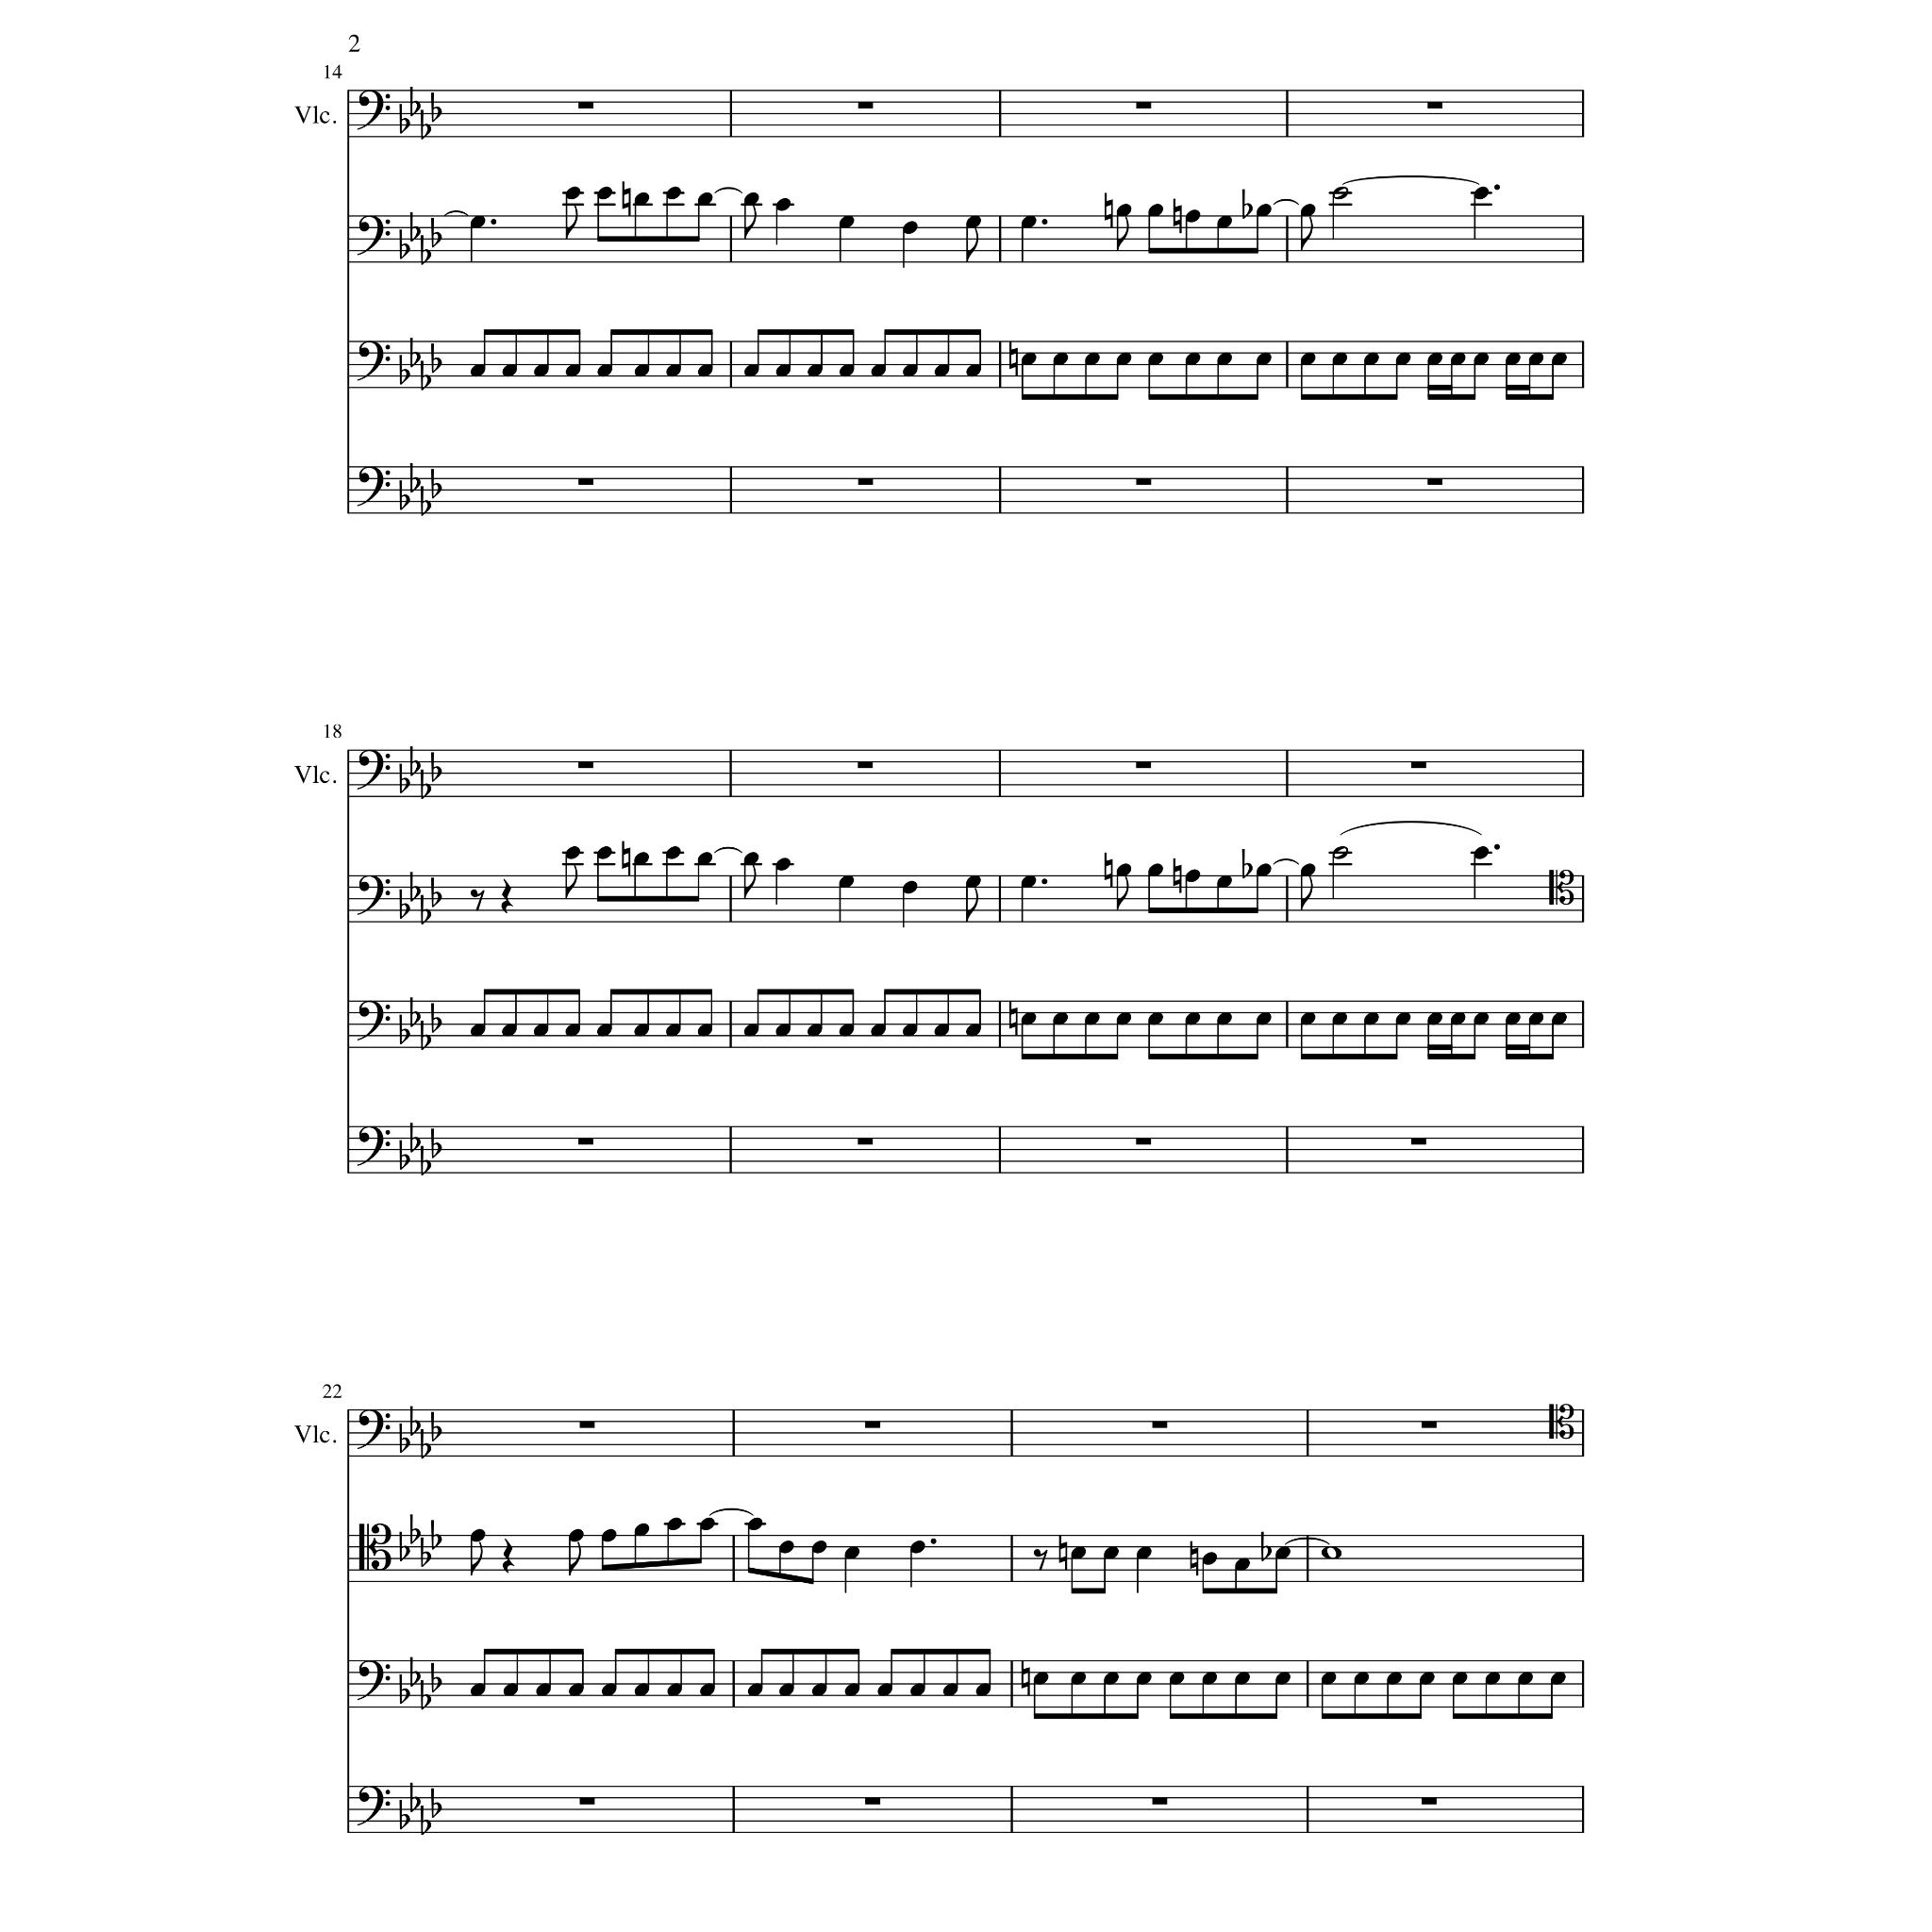fClef: (357, 341, 391, 382), (357, 216, 391, 257), (357, 90, 391, 131), (357, 467, 391, 508), (357, 1125, 391, 1166), (357, 1000, 391, 1040), (357, 750, 391, 791), (357, 1660, 391, 1700), (357, 1408, 391, 1449), (357, 1785, 391, 1826), (357, 876, 391, 915)
flag8thDown: (1300, 876, 1313, 911), (1116, 876, 1129, 911), (966, 886, 978, 922), (1300, 218, 1313, 251), (1116, 218, 1129, 251), (566, 205, 579, 239), (966, 228, 978, 262), (743, 205, 755, 239), (566, 865, 579, 899), (743, 865, 755, 899), (570, 1541, 582, 1575), (471, 1541, 483, 1575)
noteheadBlack: (1184, 352, 1201, 366), (1299, 352, 1316, 366), (1299, 203, 1316, 218), (1426, 352, 1444, 366), (1184, 1012, 1201, 1026), (1299, 1012, 1316, 1026), (1426, 1012, 1444, 1026), (1217, 352, 1233, 366), (1256, 203, 1272, 218), (1256, 352, 1272, 366), (1053, 352, 1069, 366), (1148, 352, 1164, 366), (1148, 203, 1164, 218), (1116, 352, 1132, 366), (1116, 203, 1132, 218), (1085, 352, 1100, 366), (1552, 352, 1568, 366), (1529, 352, 1545, 366), (1504, 352, 1520, 366), (1332, 352, 1348, 366), (1364, 352, 1380, 366), (1474, 352, 1490, 366), (1451, 352, 1467, 366), (1394, 352, 1410, 366), (596, 364, 612, 379), (633, 364, 649, 379), (633, 193, 649, 207), (564, 364, 580, 379), (697, 364, 713, 379), (697, 193, 713, 207), (665, 364, 681, 379), (533, 364, 548, 379), (501, 364, 517, 379), (469, 364, 485, 379), (902, 364, 918, 379), (902, 221, 918, 235), (870, 364, 886, 379), (807, 364, 823, 379), (1021, 352, 1037, 366), (839, 364, 855, 379), (966, 364, 982, 379), (934, 364, 950, 379), (743, 364, 759, 379), (743, 193, 759, 207), (775, 364, 791, 379), (1217, 1012, 1233, 1026), (1256, 1012, 1272, 1026), (1053, 1012, 1069, 1026), (1085, 1012, 1100, 1026), (1148, 1012, 1164, 1026), (1116, 1012, 1132, 1026), (1552, 1012, 1568, 1026), (1529, 1012, 1545, 1026), (1504, 1012, 1520, 1026), (1364, 1012, 1380, 1026), (1332, 1012, 1348, 1026), (1451, 1012, 1467, 1026), (1474, 1012, 1490, 1026), (1474, 846, 1490, 860), (1394, 1012, 1410, 1026), (596, 846, 612, 860), (633, 851, 649, 865), (564, 846, 580, 860), (697, 851, 713, 865), (665, 846, 681, 860), (1021, 1012, 1037, 1026), (743, 851, 759, 865), (1201, 1552, 1217, 1566), (1235, 1557, 1251, 1571), (600, 1683, 616, 1697), (600, 1529, 616, 1543), (568, 1683, 584, 1697), (568, 1529, 584, 1543), (536, 1683, 552, 1697), (699, 1683, 715, 1697), (667, 1683, 683, 1697), (633, 1683, 649, 1697), (633, 1523, 649, 1537), (502, 1683, 518, 1697), (469, 1683, 485, 1697), (469, 1529, 485, 1543), (878, 1683, 893, 1697), (844, 1683, 860, 1697), (810, 1683, 826, 1697), (975, 1683, 991, 1697), (941, 1683, 957, 1697), (909, 1683, 925, 1697), (747, 1683, 763, 1697), (778, 1683, 794, 1697), (1184, 211, 1201, 223), (1184, 870, 1201, 883), (1299, 863, 1316, 876), (902, 881, 916, 895), (1217, 216, 1233, 228), (1474, 188, 1490, 200), (596, 188, 612, 200), (564, 188, 580, 200), (665, 188, 681, 200), (469, 216, 485, 228), (839, 216, 855, 228), (1021, 216, 1037, 228), (966, 216, 982, 228), (775, 198, 791, 211), (1217, 876, 1233, 888), (1256, 863, 1272, 876), (1148, 863, 1164, 876), (1116, 863, 1132, 876), (633, 1024, 649, 1037), (596, 1024, 612, 1037), (564, 1024, 580, 1037), (665, 1024, 681, 1037), (533, 1024, 548, 1037), (501, 1024, 517, 1037), (697, 1024, 713, 1037), (469, 1024, 485, 1037), (870, 1024, 886, 1037), (839, 1024, 855, 1037), (807, 1024, 823, 1037), (1021, 876, 1037, 888), (839, 876, 855, 888), (964, 1024, 980, 1037), (964, 876, 980, 888), (934, 1024, 950, 1037), (743, 1024, 759, 1037), (775, 858, 791, 870), (775, 1024, 791, 1037), (1168, 1672, 1184, 1684), (1201, 1672, 1217, 1684), (1136, 1672, 1152, 1684), (1136, 1546, 1152, 1559), (1276, 1672, 1292, 1684), (1276, 1546, 1292, 1559), (1235, 1672, 1251, 1684), (1033, 1672, 1049, 1684), (1104, 1672, 1120, 1684), (1104, 1546, 1120, 1559), (1070, 1672, 1086, 1684), (1070, 1546, 1086, 1559), (1550, 1672, 1566, 1684), (1518, 1672, 1534, 1684), (1484, 1672, 1500, 1684), (1320, 1672, 1336, 1684), (1451, 1672, 1467, 1684), (1419, 1672, 1435, 1684), (1387, 1672, 1403, 1684), (1353, 1672, 1369, 1684), (699, 1518, 715, 1530), (667, 1518, 683, 1530), (844, 1546, 860, 1559), (810, 1541, 826, 1553), (909, 1541, 925, 1553), (747, 1518, 763, 1530), (778, 1541, 794, 1553), (902, 1024, 916, 1037)
noteheadHalf: (1330, 846, 1348, 860), (1332, 188, 1348, 200)
noteheadWhole: (1320, 1546, 1341, 1560)
rest8th: (471, 888, 485, 911), (1033, 1550, 1047, 1571)
restQuarter: (501, 878, 513, 915), (502, 1537, 515, 1573)
restWhole: (1426, 478, 1444, 487), (1136, 478, 1152, 487), (856, 478, 872, 487), (579, 478, 594, 487), (856, 761, 872, 770), (1136, 761, 1152, 770), (1410, 761, 1426, 770), (579, 761, 594, 770), (1426, 103, 1444, 110), (856, 103, 872, 110), (1136, 103, 1152, 110), (579, 103, 594, 110), (856, 1138, 872, 1145), (1136, 1138, 1152, 1145), (1410, 1138, 1426, 1145), (579, 1138, 594, 1145), (1152, 1421, 1168, 1428), (1152, 1798, 1168, 1805), (865, 1798, 881, 1805), (865, 1421, 881, 1428), (1421, 1798, 1437, 1805), (1421, 1421, 1437, 1428), (579, 1798, 594, 1805), (579, 1421, 594, 1428)
